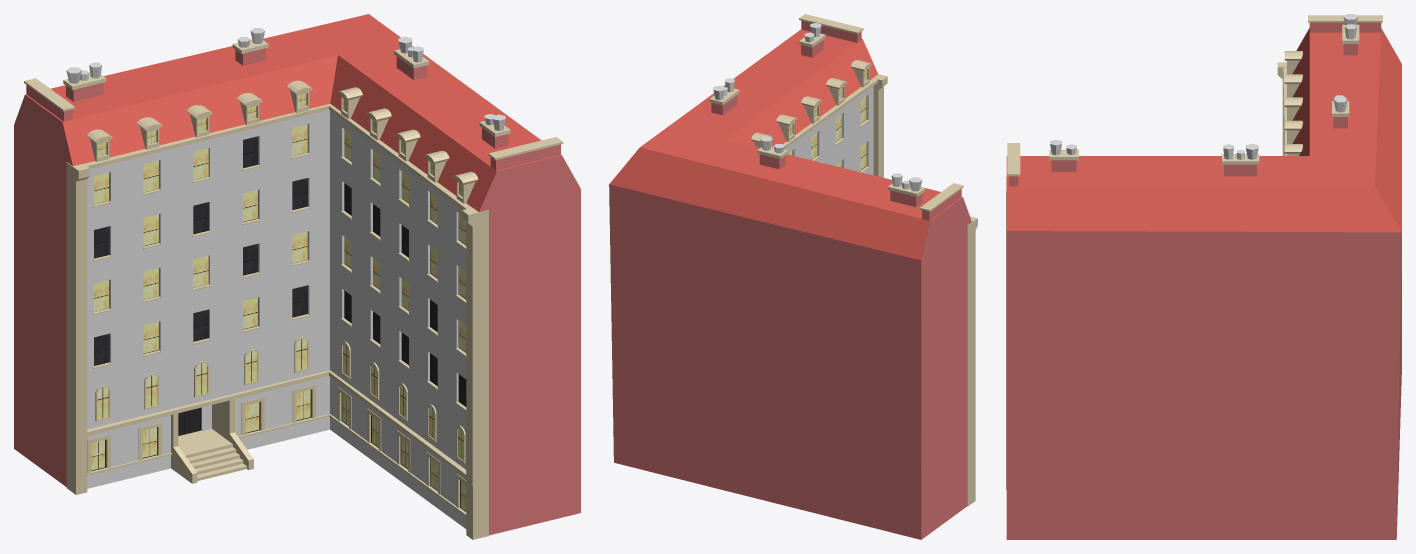
The model's file is Bloc_Place_08.fbx.
The picture shows the model from 3 angles, left to right: view 1: azimuth 30°, elevation 25°; view 2: azimuth 150°, elevation 25°; view 3: azimuth 270°, elevation 25°; orthographic projection. The views are drawn at different scales.
Parts seen in each view (by area): view 1: Bloc_Place_08; view 2: Bloc_Place_08; view 3: Bloc_Place_08.
Boxes of the visible parts, box(x1,y1,x2,y2) form: Bloc_Place_08: box(14, 14, 580, 539); Bloc_Place_08: box(609, 14, 977, 539); Bloc_Place_08: box(1006, 14, 1401, 539).
Bounding box in the file's own units: 2102 × 2180 × 2120.
